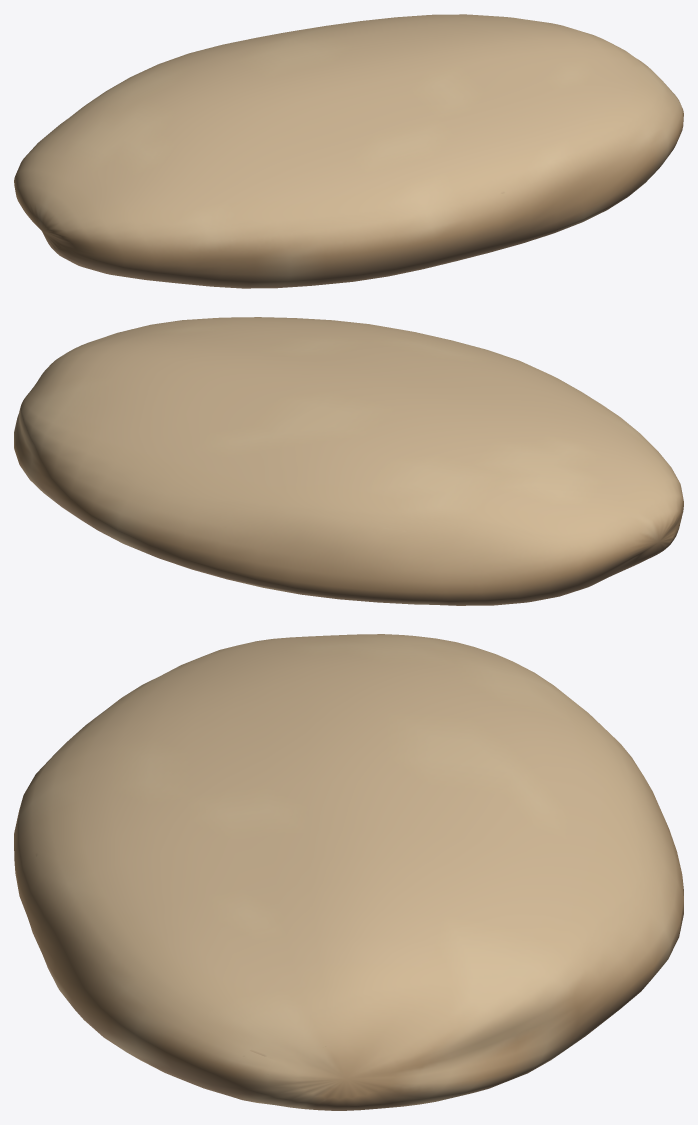
The model's file is rock_flat.glb.
3 views of the same model, one above another, from view 1: azimuth 30°, elevation 25°; view 2: azimuth 150°, elevation 25°; view 3: azimuth 270°, elevation 25° (orthographic). The views are drawn at different scales.
Visible parts, largest first — view 1: RockFlat; view 2: RockFlat; view 3: RockFlat.
Part boxes in pixels (x1,y1,x2,y2): RockFlat: (14,14,683,288); RockFlat: (14,317,683,605); RockFlat: (14,634,683,1110).
Bounding box in the file's own units: 1.6 × 0.3052 × 1.09.
Materials: 1 (1 with a texture image).
